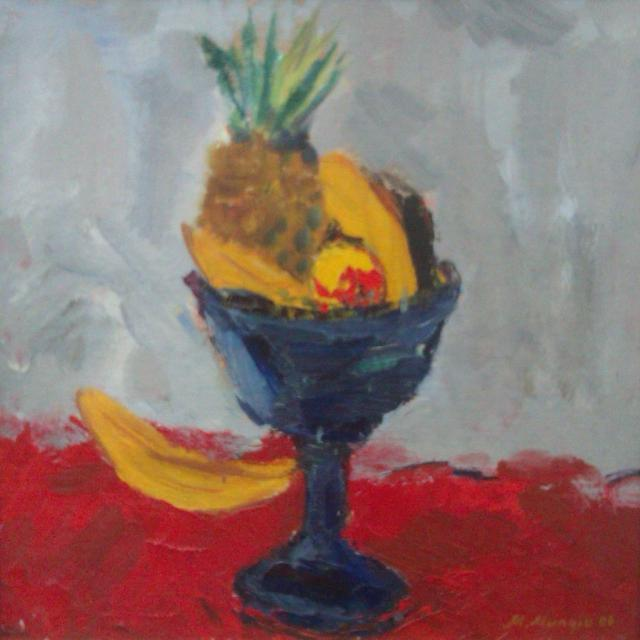Pineapple: (198, 6, 357, 284)
